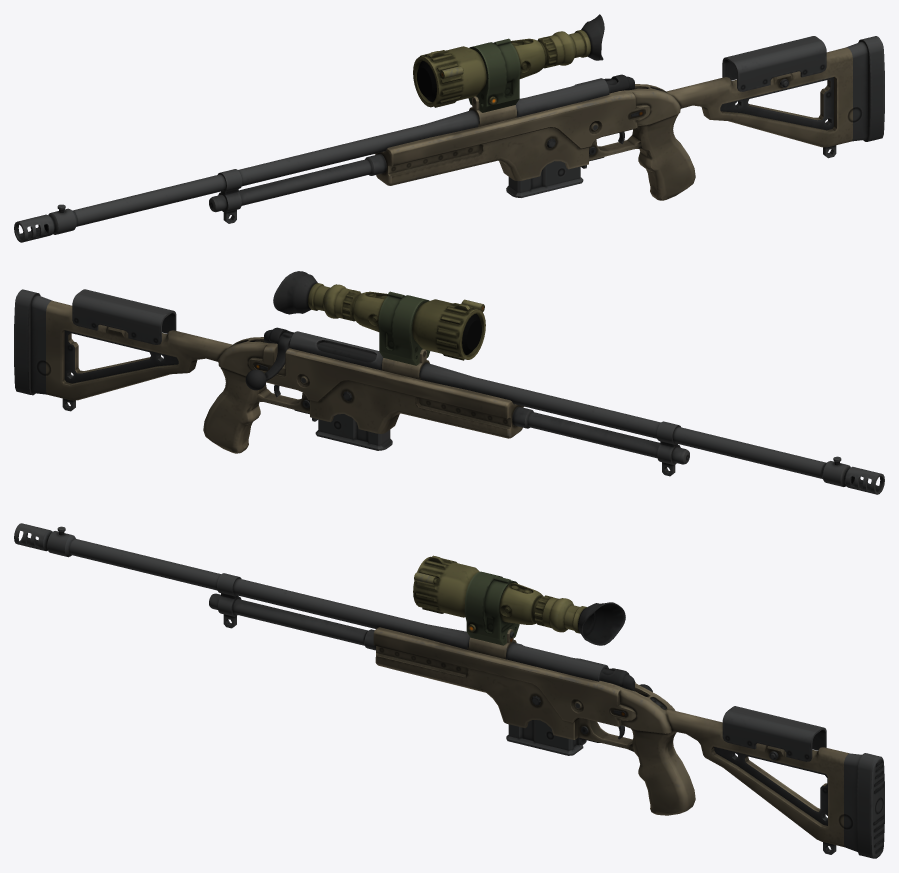
Rendered from sniper.glb.
3 views of the same model, one above another, from view 1: azimuth 30°, elevation 25°; view 2: azimuth 150°, elevation 25°; view 3: azimuth 330°, elevation 25° (orthographic).
Visible parts, largest first — view 1: base, scope, clip; view 2: base, scope, clip, bolt; view 3: base, scope, clip.
Boxes of the visible parts, x1=… form: base: x1=14, y1=36, x2=884, y2=242; scope: x1=413, y1=14, x2=604, y2=112; clip: x1=506, y1=161, x2=583, y2=197; base: x1=14, y1=289, x2=884, y2=494; scope: x1=273, y1=271, x2=485, y2=365; clip: x1=315, y1=414, x2=392, y2=450; bolt: x1=245, y1=332, x2=376, y2=390; base: x1=14, y1=523, x2=884, y2=858; scope: x1=413, y1=555, x2=625, y2=645; clip: x1=506, y1=720, x2=583, y2=755.
Size of the model in its own units: 2.41 by 0.5373 by 0.1953.
Materials: 1 (1 with a texture image).
